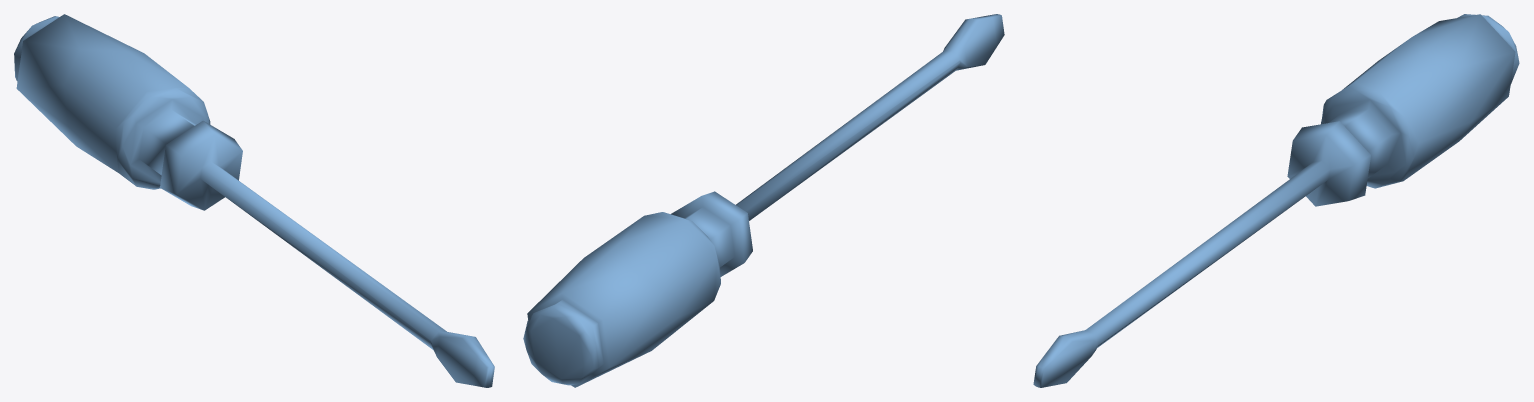
The model's file is screwdriver2_4.dae.
The picture shows the model from 3 angles, left to right: view 1: azimuth 30°, elevation 25°; view 2: azimuth 150°, elevation 25°; view 3: azimuth 330°, elevation 25°; orthographic projection.
Visible parts, largest first — view 1: screwdriver2_019; view 2: screwdriver2_019; view 3: screwdriver2_019.
Part boxes in pixels (x1=…): screwdriver2_019: x1=14, y1=14, x2=494, y2=387; screwdriver2_019: x1=523, y1=14, x2=1004, y2=387; screwdriver2_019: x1=1033, y1=14, x2=1519, y2=387.
Size of the model in its own units: 0.0446 by 0.3474 by 0.0445.
